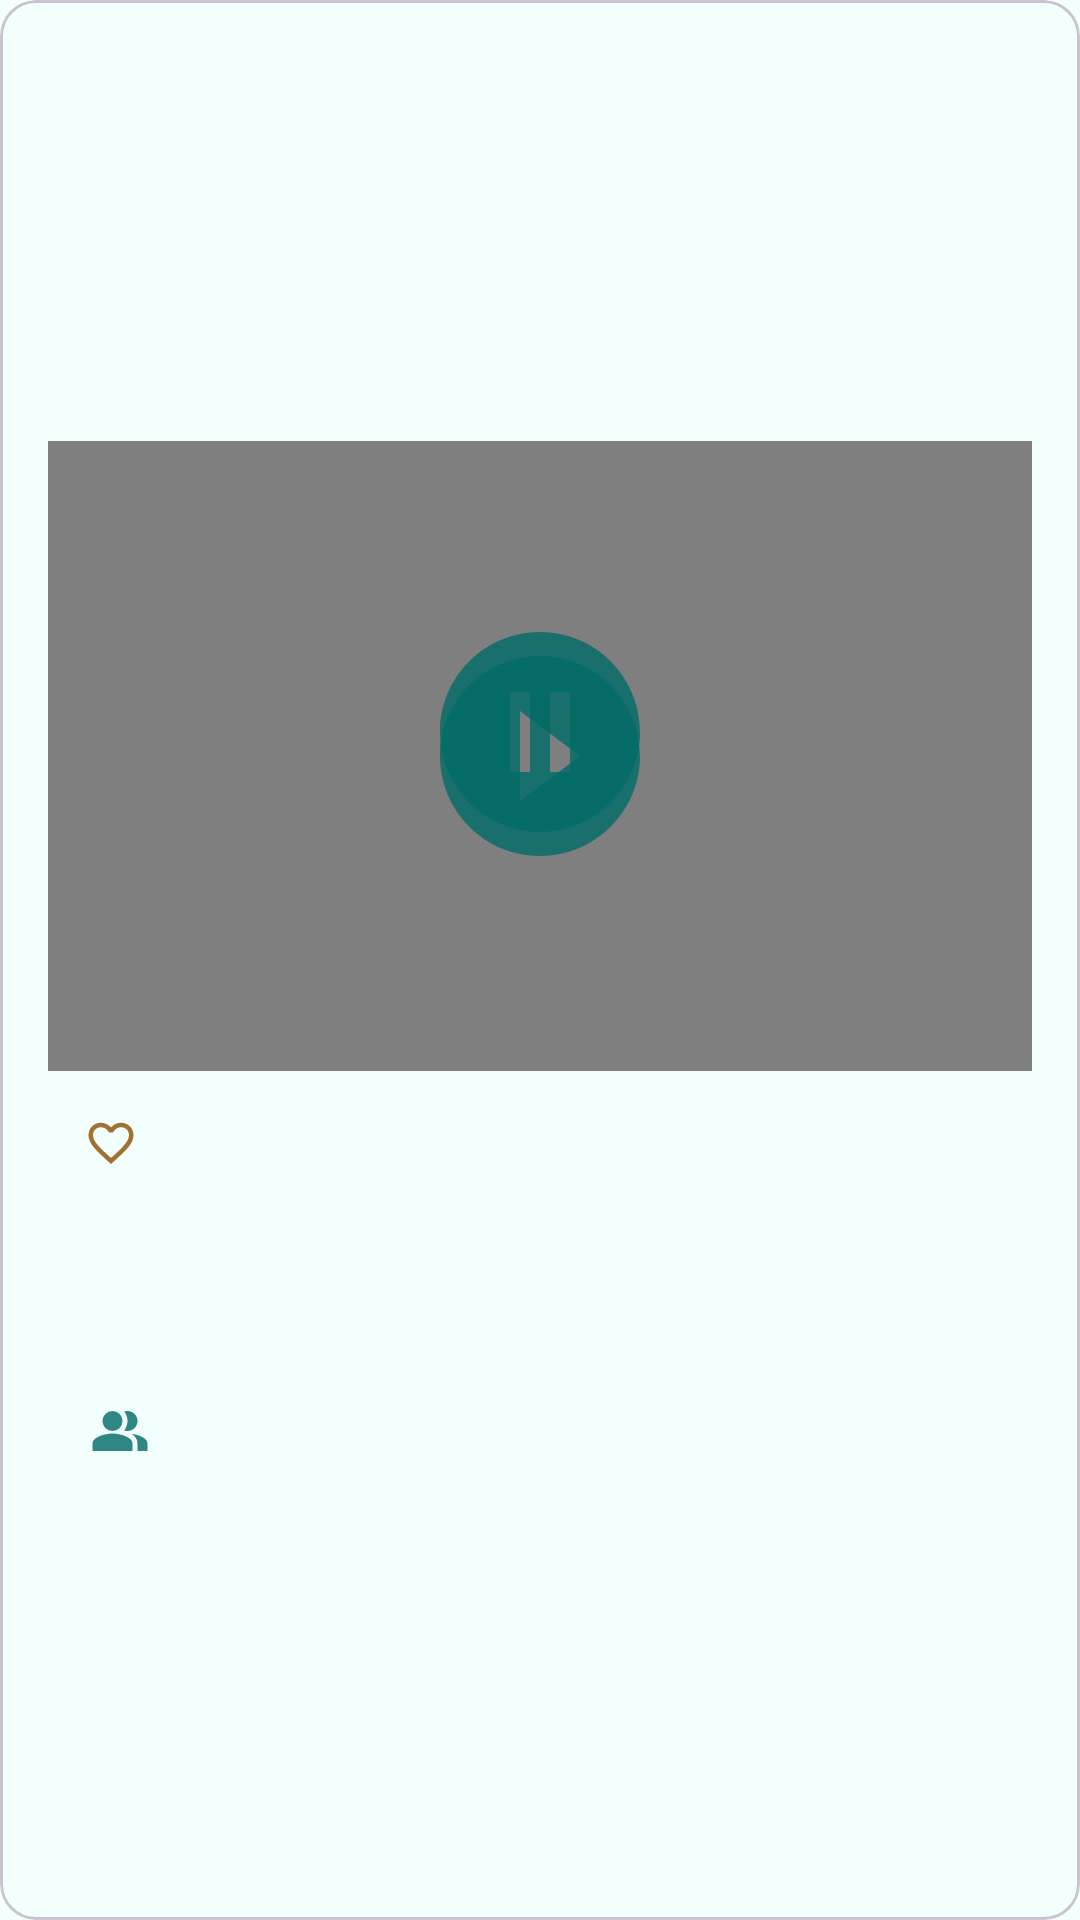

Locate icon controls on the screen. Image size 1080 × 1920, boxes as (x1,y1,x2,y2).
like: (88,1122,134,1164)
people: (92,1411,148,1451)
